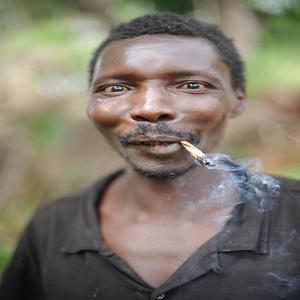cigarette: (181, 139, 218, 170)
